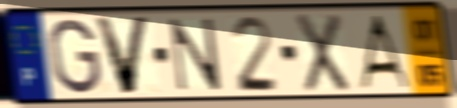2: (229, 14, 279, 94)
A: (355, 12, 413, 90)
G: (46, 16, 104, 97)
N: (167, 16, 224, 93)
V: (91, 14, 154, 98)
X: (293, 11, 351, 95)
